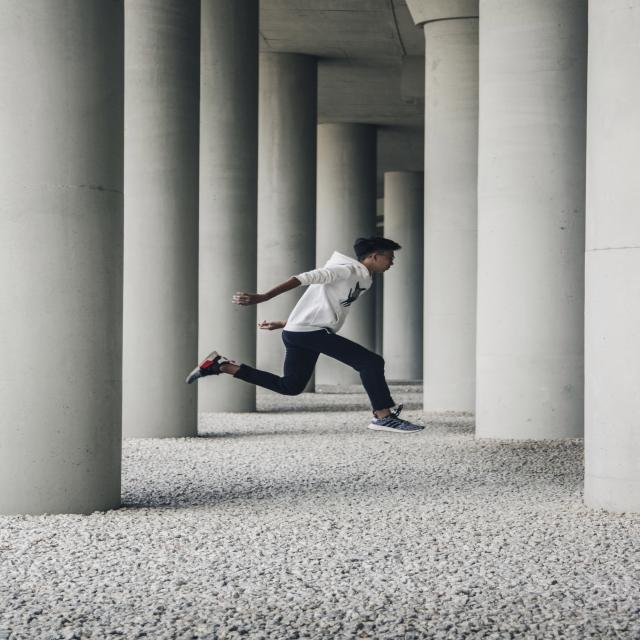adult: (183, 237, 423, 433)
